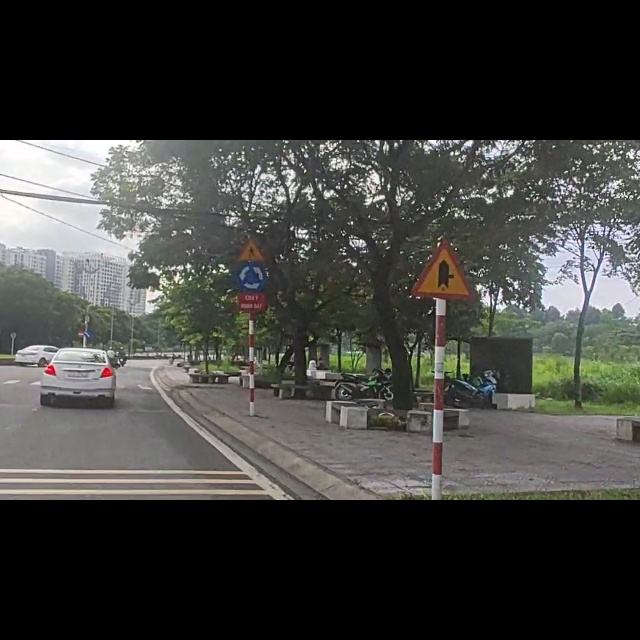bien_hieu_lenh: (409, 172, 477, 289), (235, 219, 270, 269), (235, 171, 269, 218), (84, 338, 93, 354), (77, 337, 84, 351)
